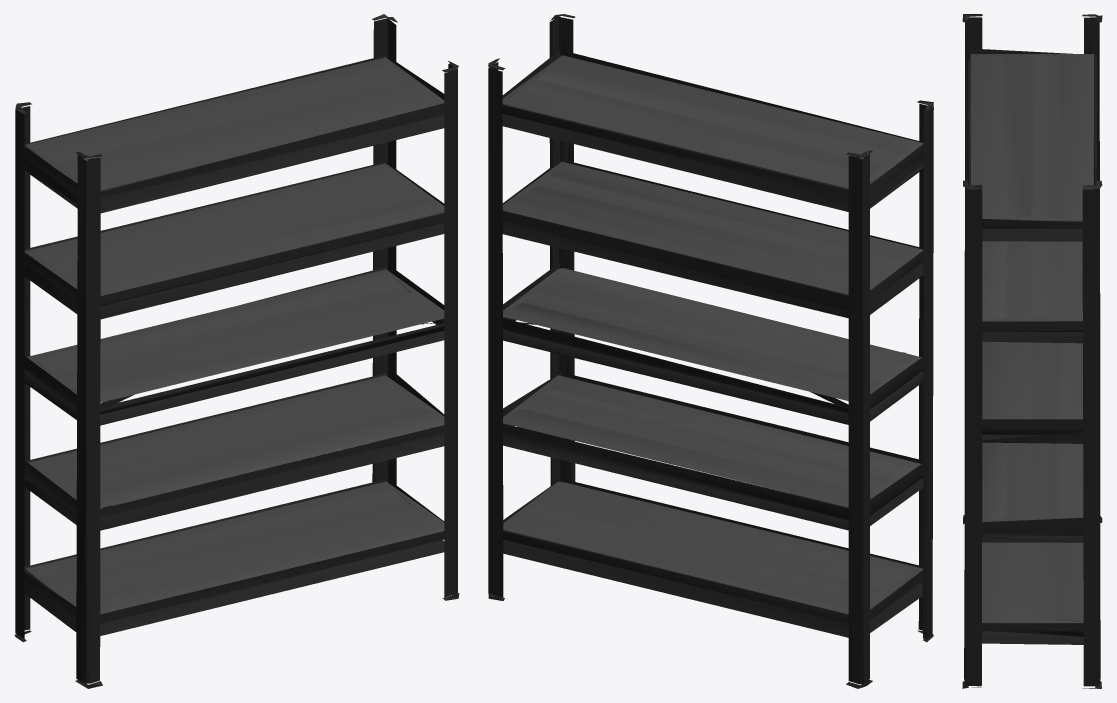
Rendered from simready-shelf-storage-basic.lite.8b0a5e28.glb.
The picture shows the model from 3 angles, left to right: view 1: azimuth 30°, elevation 25°; view 2: azimuth 150°, elevation 25°; view 3: azimuth 270°, elevation 25°; orthographic projection. The views are drawn at different scales.
Parts seen in each view (by area): view 1: model; view 2: model; view 3: model.
Boxes of the visible parts, x1=… form: model: x1=14, y1=14, x2=459, y2=688; model: x1=488, y1=14, x2=933, y2=688; model: x1=962, y1=14, x2=1102, y2=688.
Size of the model in its own units: 1.51 by 2.03 by 0.5112.
Materials: 3 (1 with a texture image).
